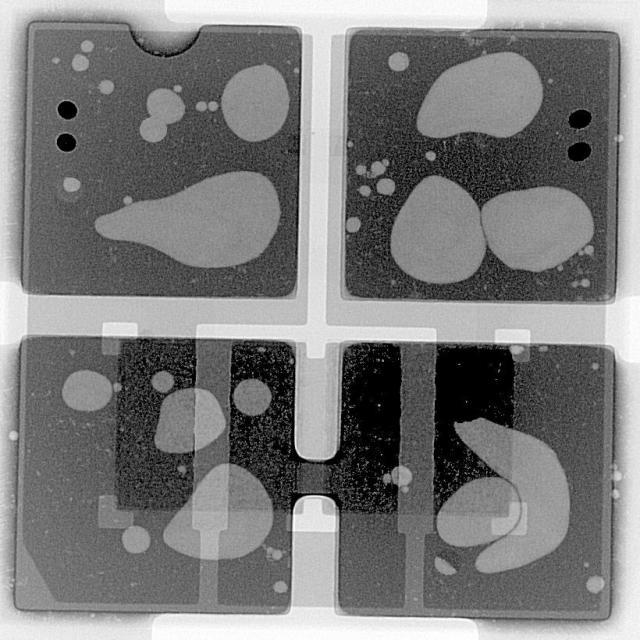chip: (14, 19, 623, 618)
void: (96, 171, 280, 268), (456, 420, 570, 573), (164, 463, 272, 560), (417, 53, 541, 137), (391, 176, 485, 283), (481, 186, 593, 272), (437, 478, 519, 547), (220, 63, 289, 141), (155, 388, 226, 453), (140, 88, 184, 141), (61, 370, 112, 411), (233, 379, 270, 415), (121, 525, 149, 553), (391, 465, 412, 492), (151, 371, 174, 394), (388, 52, 408, 71), (57, 101, 77, 119), (57, 133, 76, 151), (370, 161, 388, 177), (71, 55, 88, 71), (586, 577, 604, 592), (378, 179, 394, 195), (64, 178, 80, 192), (266, 547, 282, 560), (346, 218, 360, 232), (99, 80, 113, 94), (274, 580, 287, 592), (358, 185, 369, 196), (81, 41, 92, 52), (355, 165, 366, 175), (208, 101, 218, 111), (197, 101, 207, 110), (123, 196, 132, 205), (173, 85, 181, 92)
